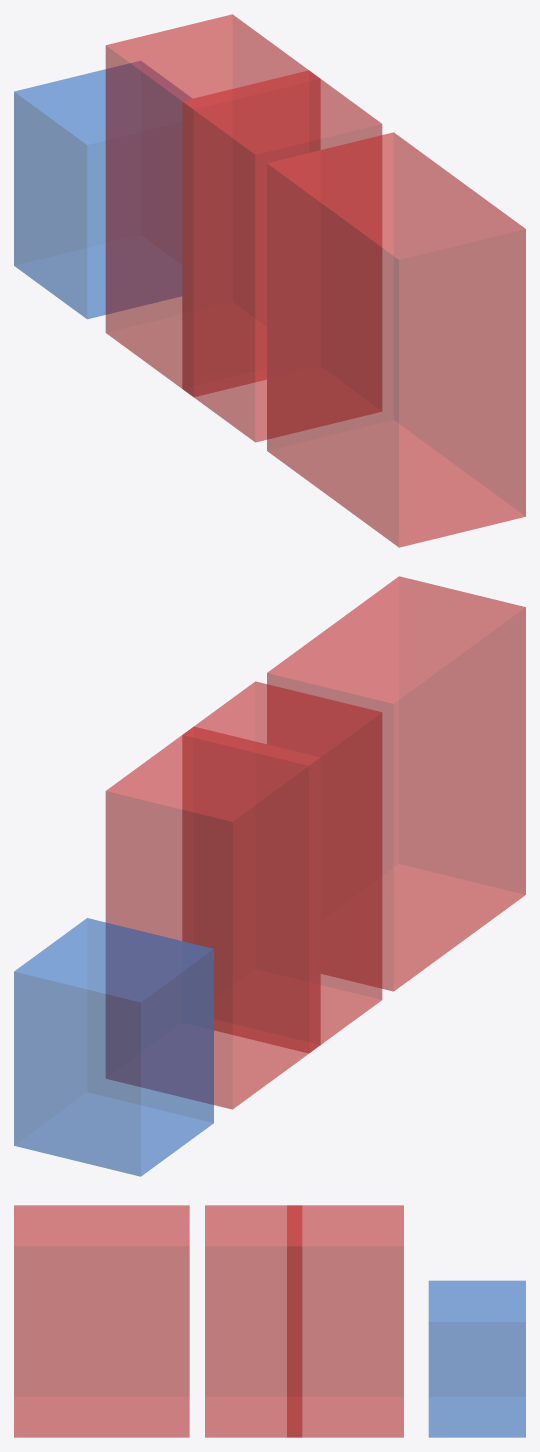
The model's file is home_03_zones.obj.
The picture shows the model from 3 angles, top to bottom: view 1: azimuth 30°, elevation 25°; view 2: azimuth 150°, elevation 25°; view 3: azimuth 270°, elevation 25°; orthographic projection. The views are drawn at different scales.
Parts seen in each view (by area): view 1: meter_panel_working_space, inverter_vlld_wall_space, base_hub_wall_space, base_core_1_footprint; view 2: meter_panel_working_space, inverter_vlld_wall_space, base_hub_wall_space, base_core_1_footprint; view 3: meter_panel_working_space, inverter_vlld_wall_space, base_hub_wall_space, base_core_1_footprint.
Part boxes in pixels (bbox=[...]): meter_panel_working_space: bbox=[267, 132, 525, 547]; inverter_vlld_wall_space: bbox=[105, 14, 320, 396]; base_hub_wall_space: bbox=[182, 70, 382, 442]; base_core_1_footprint: bbox=[14, 61, 191, 319]; meter_panel_working_space: bbox=[267, 576, 525, 991]; inverter_vlld_wall_space: bbox=[105, 727, 320, 1109]; base_hub_wall_space: bbox=[182, 681, 382, 1052]; base_core_1_footprint: bbox=[14, 918, 213, 1176]; meter_panel_working_space: bbox=[14, 1205, 189, 1437]; inverter_vlld_wall_space: bbox=[287, 1205, 403, 1437]; base_hub_wall_space: bbox=[205, 1205, 302, 1437]; base_core_1_footprint: bbox=[428, 1280, 525, 1437].
Bounding box in the file's own units: 0.9144 × 1.98 × 4.81.
